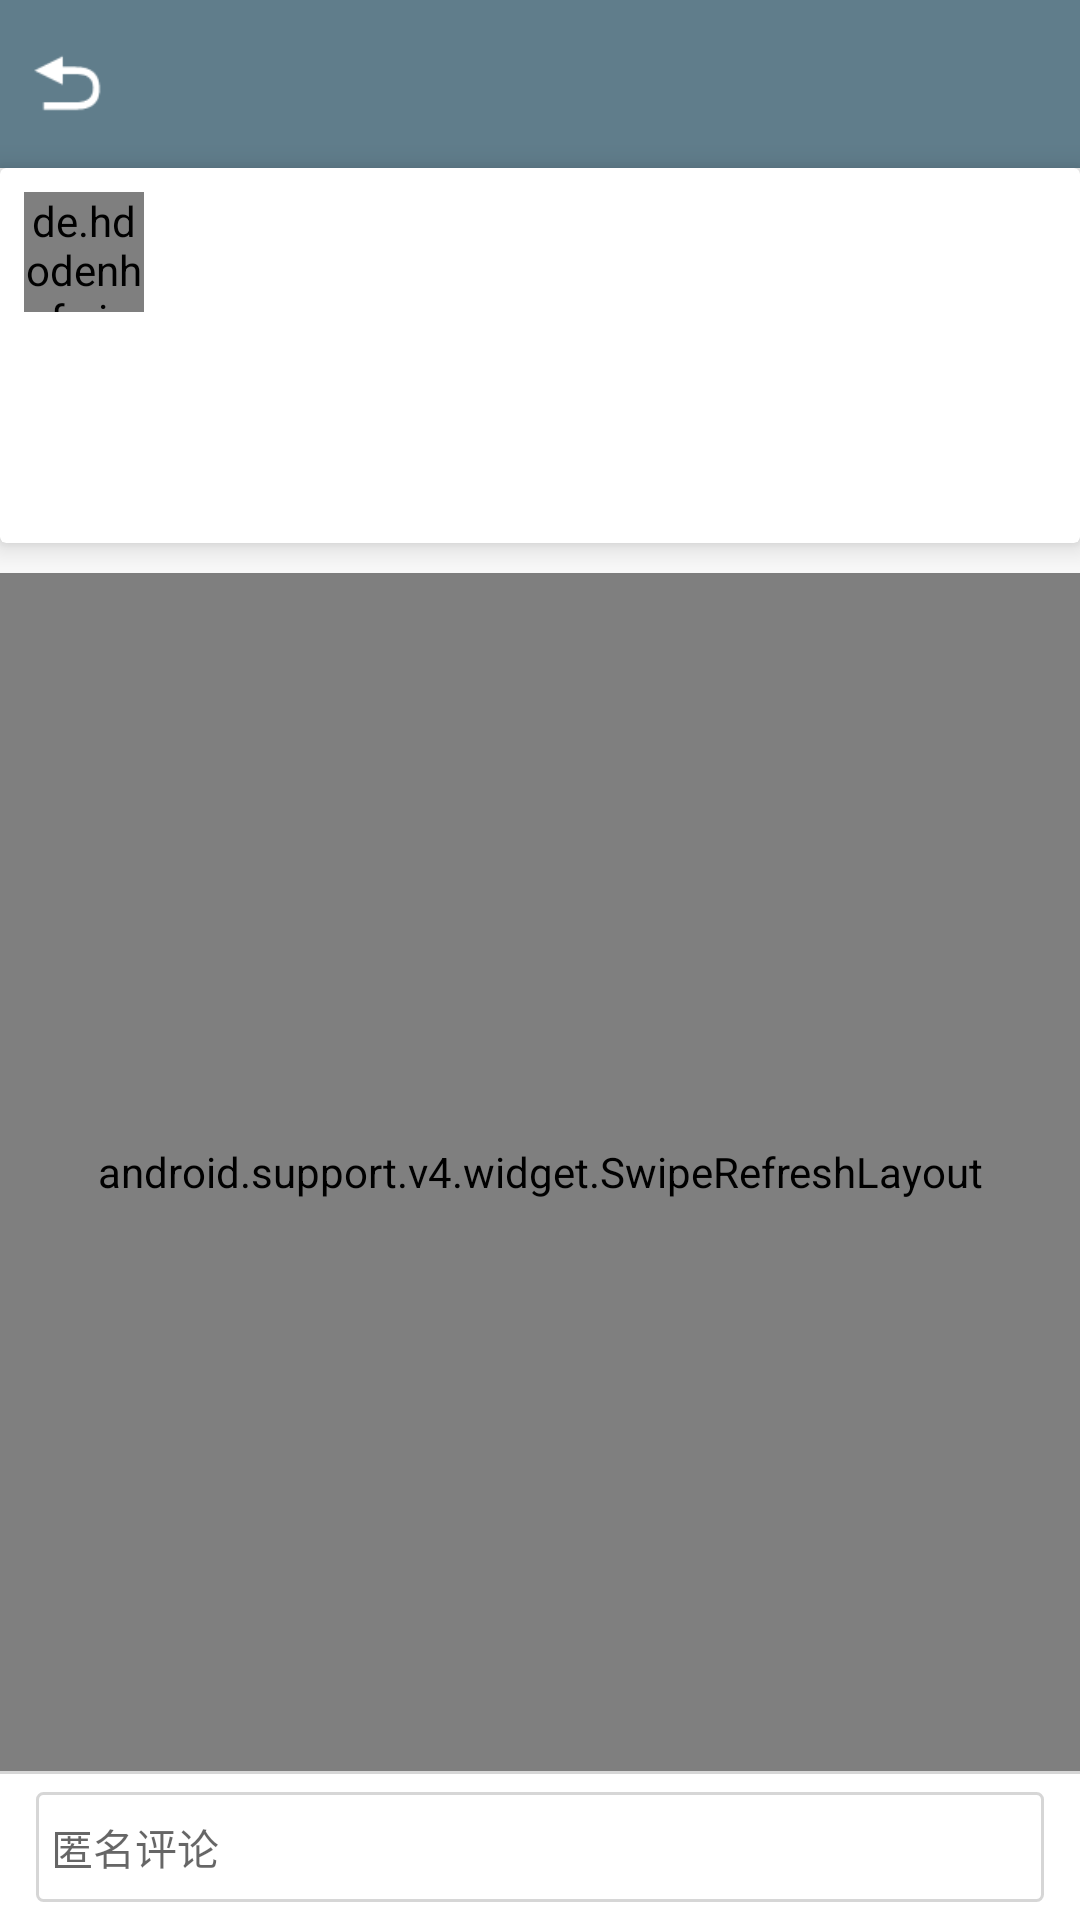

Icon click points for this 1080 x 1920 phone screenshot, format (x=x, y=y):
back: (x=67, y=83)
